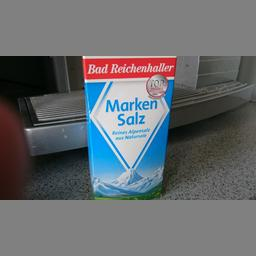spices: (81, 55, 176, 198)
